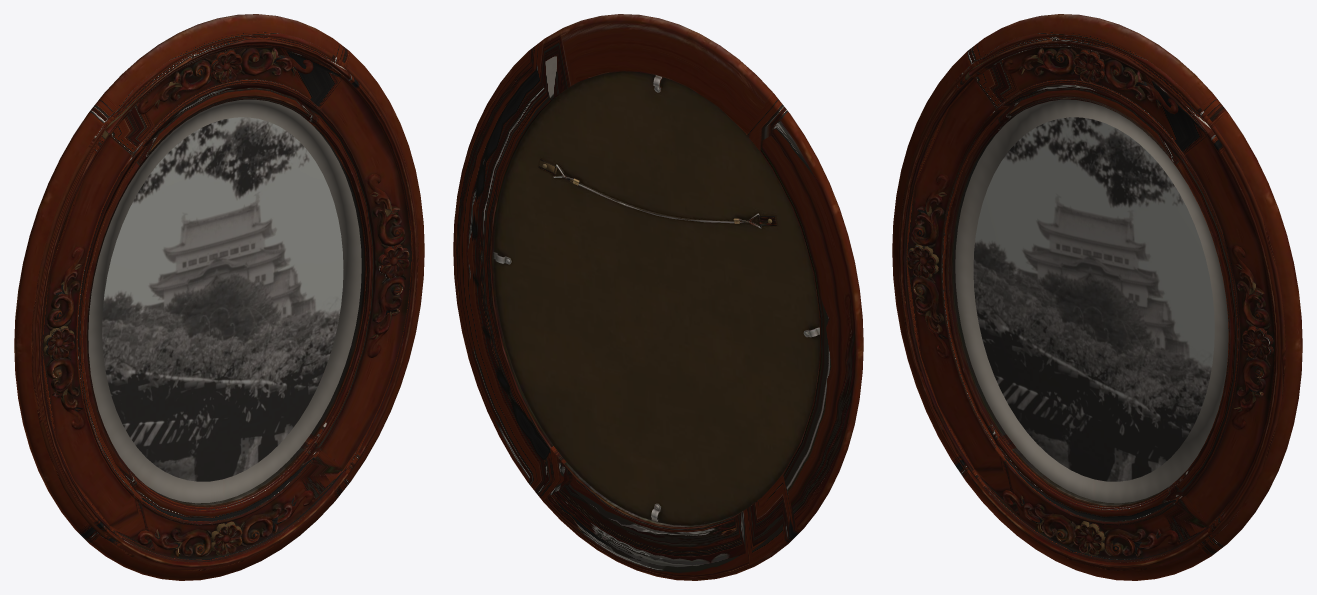
Rendered from hanging_picture_frame_03.glb.
3 views of the same model, side by side, from view 1: azimuth 30°, elevation 25°; view 2: azimuth 150°, elevation 25°; view 3: azimuth 330°, elevation 25° (orthographic).
Parts seen in each view (by area): view 1: hanging_picture_frame_03, hanging_picture_frame_03_glass; view 2: hanging_picture_frame_03; view 3: hanging_picture_frame_03, hanging_picture_frame_03_glass.
Boxes of the visible parts, x1,y1,x2,y2 form: hanging_picture_frame_03: [14, 14, 424, 580]; hanging_picture_frame_03_glass: [88, 100, 363, 504]; hanging_picture_frame_03: [453, 14, 863, 580]; hanging_picture_frame_03: [892, 14, 1302, 580]; hanging_picture_frame_03_glass: [953, 100, 1228, 504].
Bounding box in the file's own units: 0.385 × 0.5024 × 0.0318.
3 materials, 2 textured.
